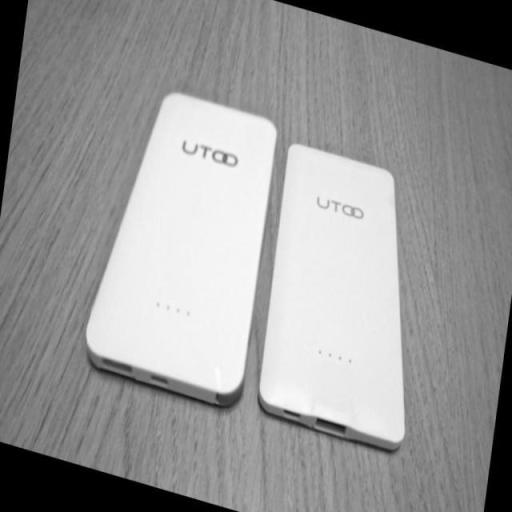phone: (69, 84, 280, 417), (261, 136, 408, 451)
